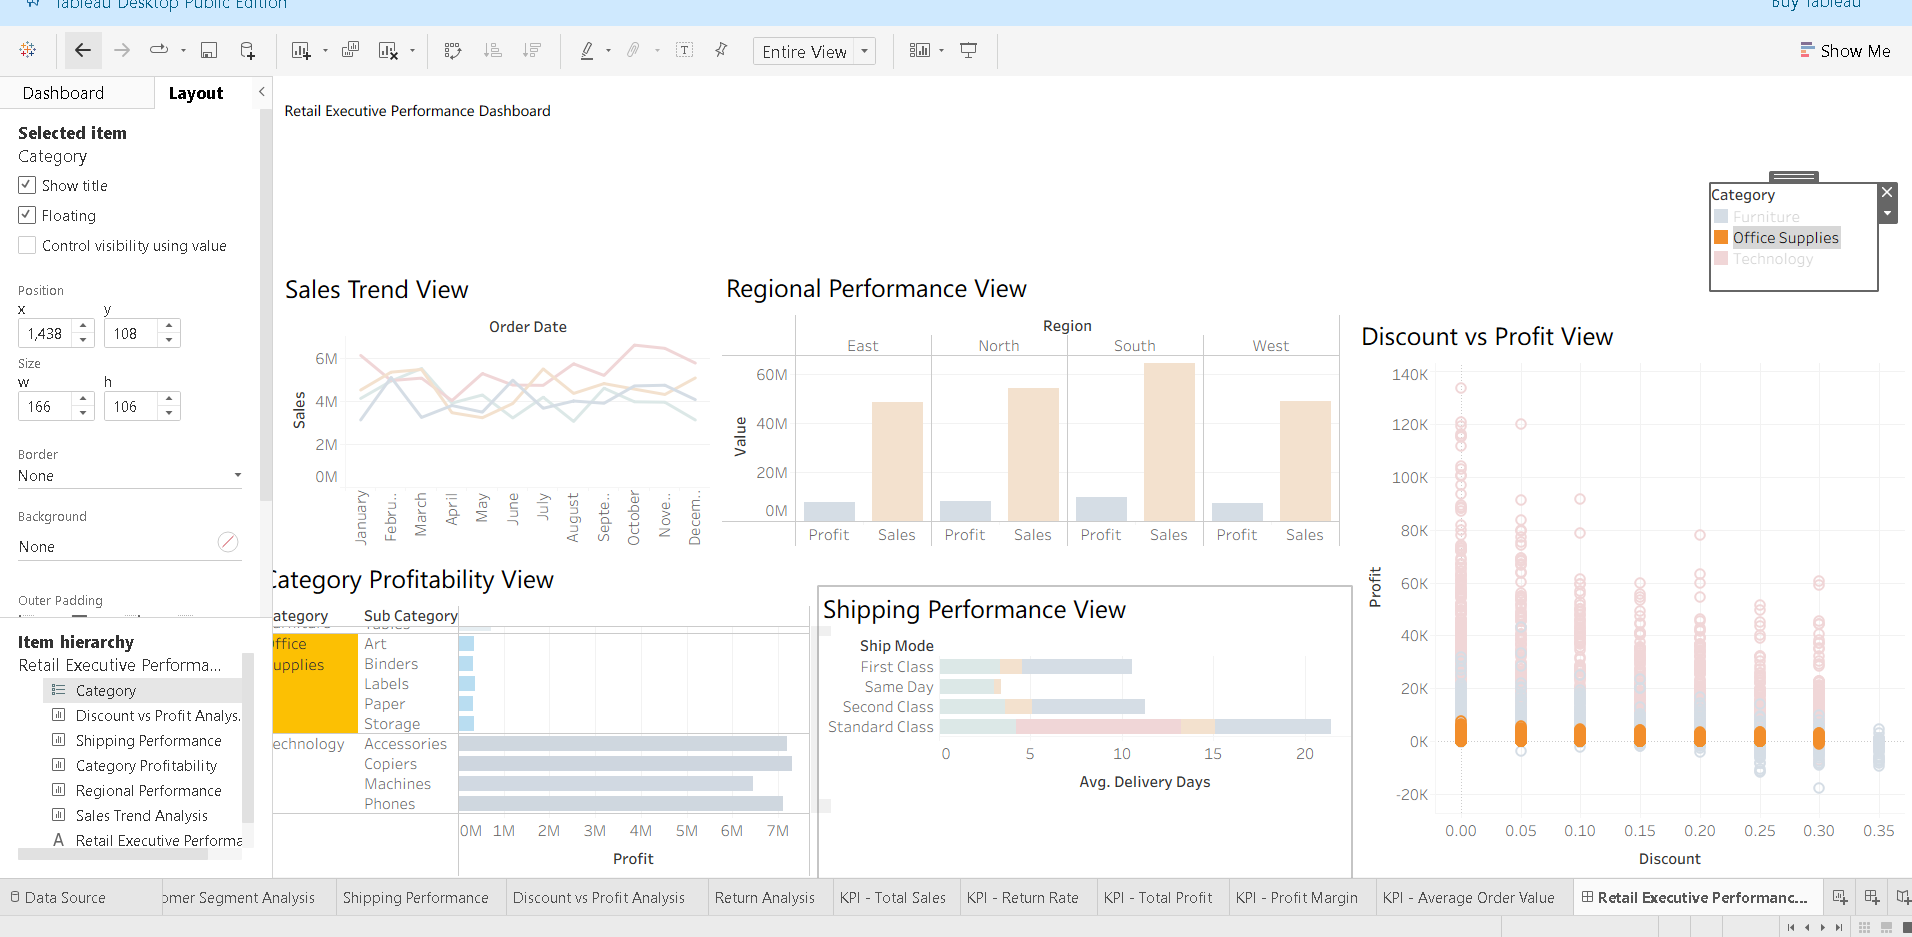

This screenshot's page, from the dashboard's own definition file:
{"tool":"tableau","page":{"name":"Retail Executive Performance Dashboard","canvas":[1000,1000],"units":"permille","ordinal":0},"visuals":[{"type":"text","box":[4.6,16.2,950.8,52.4]},{"type":"worksheet","title":"Regional Performance","mark":"Automatic","cols":["region"],"box":[272.8,237.2,375.4,350.8]},{"type":"worksheet","title":"Sales Trend Analysis","mark":"Automatic","rows":["sales"],"cols":["order_date"],"box":[4.8,238.5,260.7,349.6]},{"type":"worksheet","title":"Discount vs Profit Analysis","mark":"Automatic","rows":["profit"],"cols":["discount"],"box":[658.6,297.1,332.9,701.6]},{"type":"legend","title":"Discount vs Profit Analysis","param":"[federated.0pee0oy0axl8a61cnlk1i1qpud8u].[none:category:nk]","box":[561.4,665.4,85,106.1]}]}

Visuals, with their boxes on the dashboard's canvas, which has no fixed pixel size, in thousandths of its width and height (x1, y1, x2, y2). These are canvas units, not pixel positions in the 1912x937 screenshot, which may show the page scaled, cropped or inside an application window:
text: rect(5, 16, 955, 69)
"Regional Performance" worksheet: rect(273, 237, 648, 588)
"Sales Trend Analysis" worksheet: rect(5, 238, 266, 588)
"Discount vs Profit Analysis" worksheet: rect(659, 297, 992, 999)
"Discount vs Profit Analysis" legend: rect(561, 665, 646, 772)
